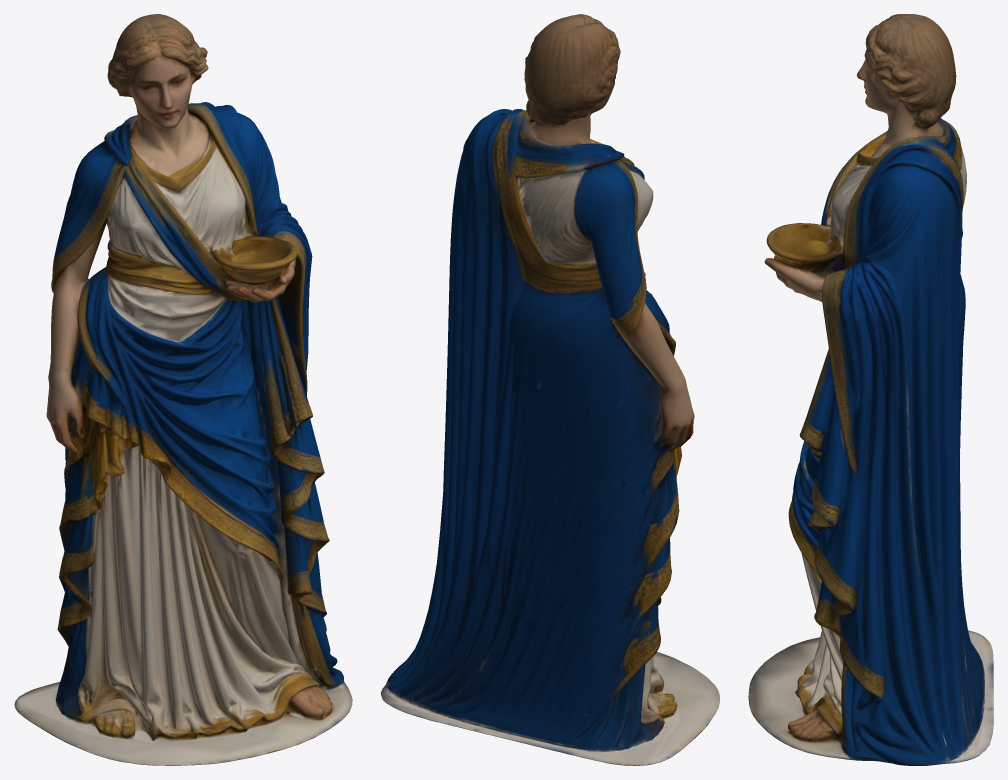
The model's file is sophia.glb.
3 renders of one model, left to right at view 1: azimuth 30°, elevation 25°; view 2: azimuth 150°, elevation 25°; view 3: azimuth 270°, elevation 25°, orthographic. The views are drawn at different scales.
Parts seen in each view (by area): view 1: node_0; view 2: node_0; view 3: node_0.
Boxes of the visible parts, <box> form: node_0: <box>14,14,352,765</box>; node_0: <box>381,14,719,765</box>; node_0: <box>748,14,993,765</box>.
Size of the model in its own units: 0.4742 by 1.07 by 0.3565.
1 material, 1 textured.
